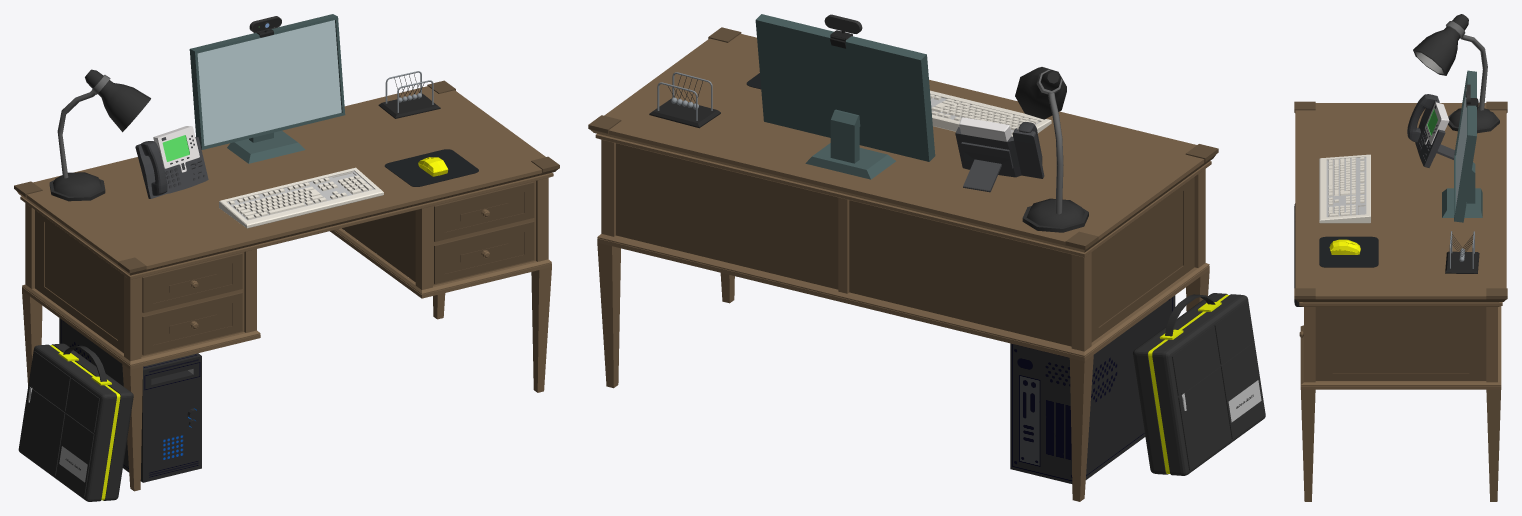
File: DeskFullComplete.glb
The picture shows the model from 3 angles, left to right: view 1: azimuth 30°, elevation 25°; view 2: azimuth 150°, elevation 25°; view 3: azimuth 270°, elevation 25°; orthographic projection. The views are drawn at different scales.
Visible parts, largest first — view 1: DeskComplete; view 2: DeskComplete; view 3: DeskComplete.
Boxes of the visible parts, box(x1,y1,x2,y2) form: DeskComplete: box(14, 14, 559, 501); DeskComplete: box(588, 14, 1265, 501); DeskComplete: box(1294, 14, 1507, 501).
Size of the model in its own units: 2 by 1.43 by 0.8466.
Materials: 26 (3 with a texture image).
